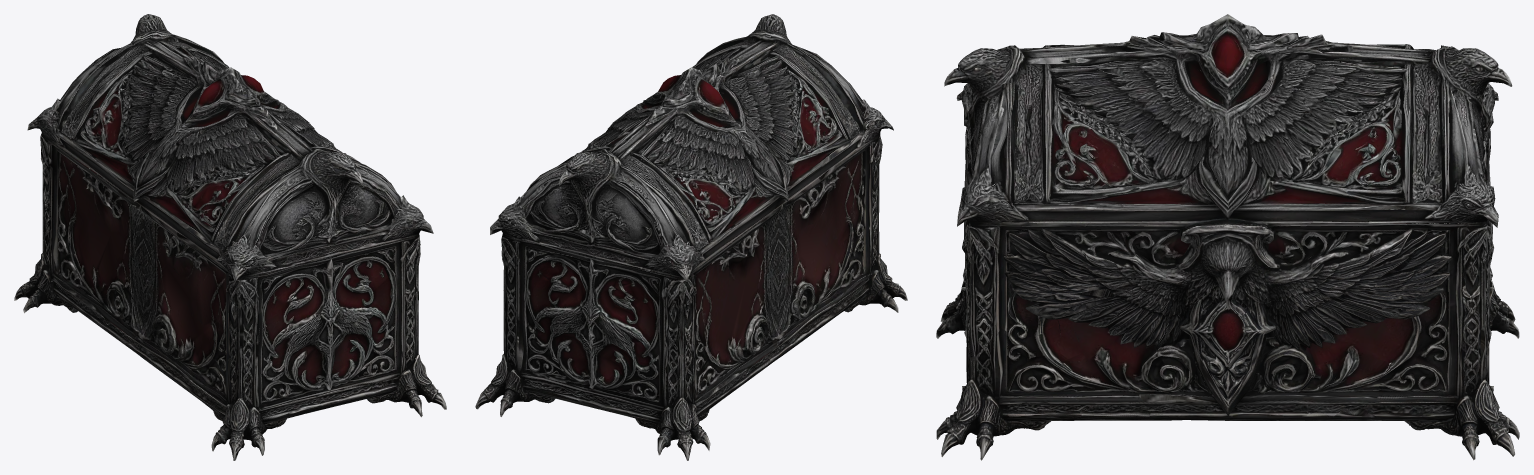
Rendered from frost-chest.glb.
The picture shows the model from 3 angles, left to right: view 1: azimuth 30°, elevation 25°; view 2: azimuth 150°, elevation 25°; view 3: azimuth 270°, elevation 25°; orthographic projection. The views are drawn at different scales.
Parts seen in each view (by area): view 1: tripo_part_0, tripo_part_1, tripo_part_6, tripo_part_5, tripo_part_8, tripo_part_7, tripo_part_4; view 2: tripo_part_0, tripo_part_1, tripo_part_7, tripo_part_2, tripo_part_4, tripo_part_6, tripo_part_8; view 3: tripo_part_1, tripo_part_0, tripo_part_3, tripo_part_5, tripo_part_2, tripo_part_8, tripo_part_4, tripo_part_7, tripo_part_6.
Part boxes in pixels (x1,y1,x2,y2): tripo_part_0: (40, 133, 420, 424); tripo_part_1: (27, 30, 433, 281); tripo_part_6: (211, 397, 286, 460); tripo_part_5: (367, 354, 446, 417); tripo_part_8: (307, 151, 363, 192); tripo_part_7: (14, 253, 77, 313); tripo_part_4: (133, 14, 171, 39); tripo_part_0: (501, 132, 882, 424); tripo_part_1: (490, 31, 893, 281); tripo_part_7: (635, 397, 710, 460); tripo_part_2: (475, 350, 555, 416); tripo_part_4: (559, 151, 610, 192); tripo_part_6: (844, 253, 907, 312); tripo_part_8: (751, 14, 791, 43); tripo_part_1: (956, 14, 1498, 227); tripo_part_0: (962, 128, 1493, 421); tripo_part_3: (1004, 219, 1452, 415); tripo_part_5: (936, 365, 1050, 460); tripo_part_2: (1404, 371, 1519, 460); tripo_part_8: (944, 48, 1013, 98); tripo_part_4: (1442, 48, 1512, 95); tripo_part_7: (1489, 279, 1519, 338); tripo_part_6: (936, 280, 966, 338).
Size of the model in its own units: 0.5769 by 0.696 by 0.9793.
9 materials, 9 textured.
